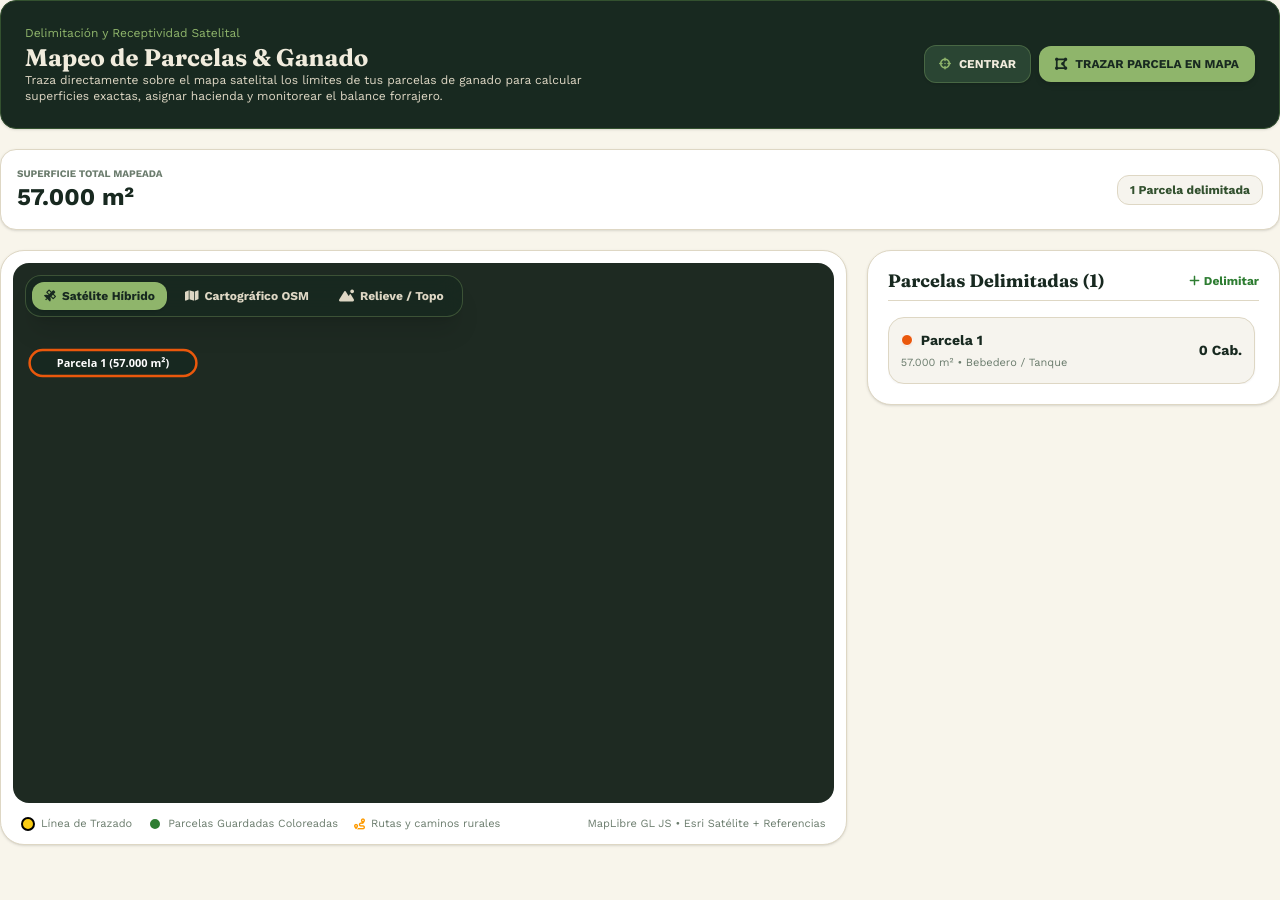
Vista de Parcelas y Potreros (ParcelasView.jsx) › muestra superficie en m² por defecto, oculta Capacidad Máxima y permite cambiar métrica con el menú de 3 rayitas
Note: Seleccionar la parcela para abrir su ficha inspectora
Click the text "Parcela 1".
click(952, 340)  # box [921, 330, 983, 350]
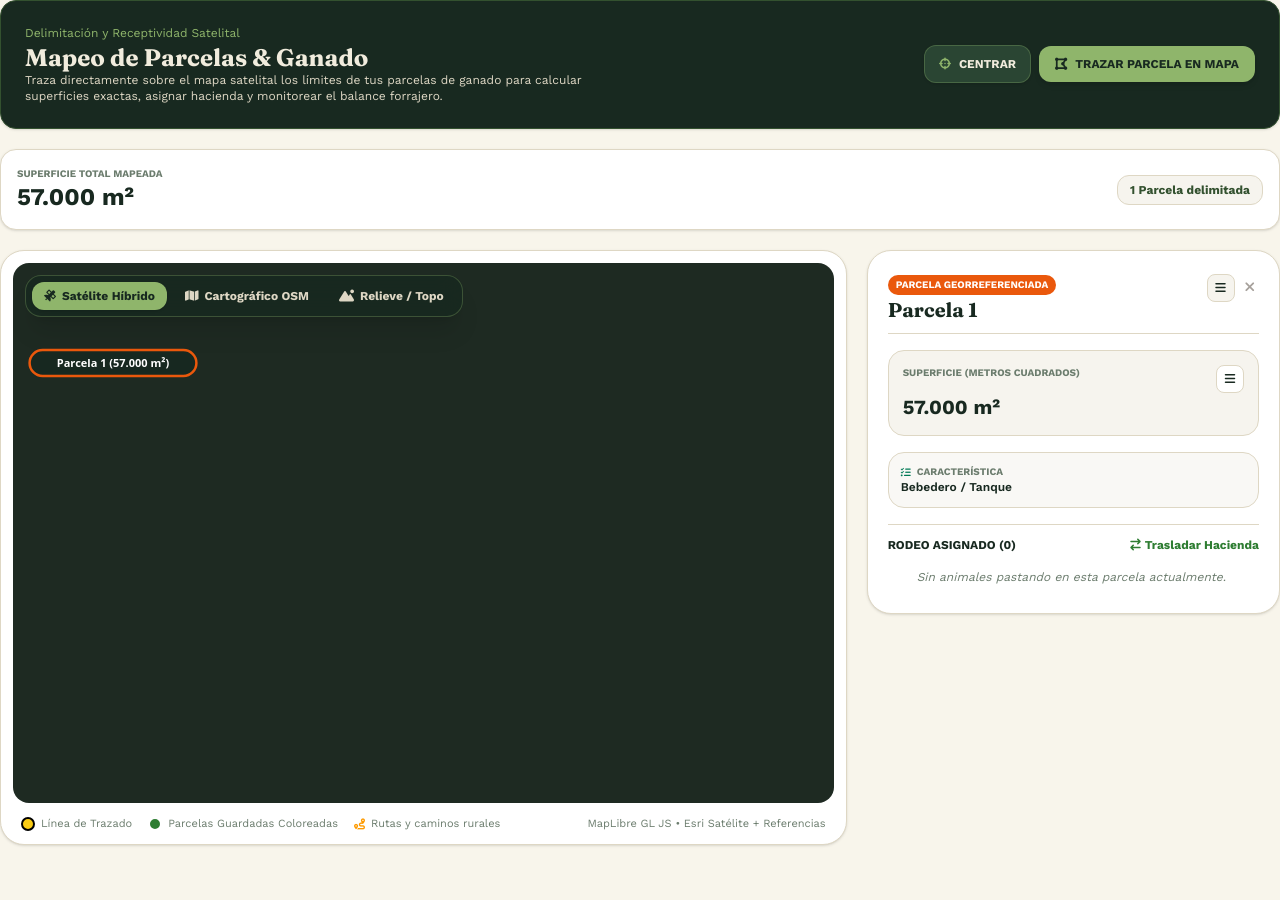
Expected: the text "Superficie (Metros cuadrados)" is shown, [903, 365, 1080, 381]
Note: Abrir el menú de 3 rayitas y cambiar a Hectáreas (Has)
Click the button named "Cambiar métrica de superficie".
click(1230, 379)  # box [1216, 365, 1244, 393]
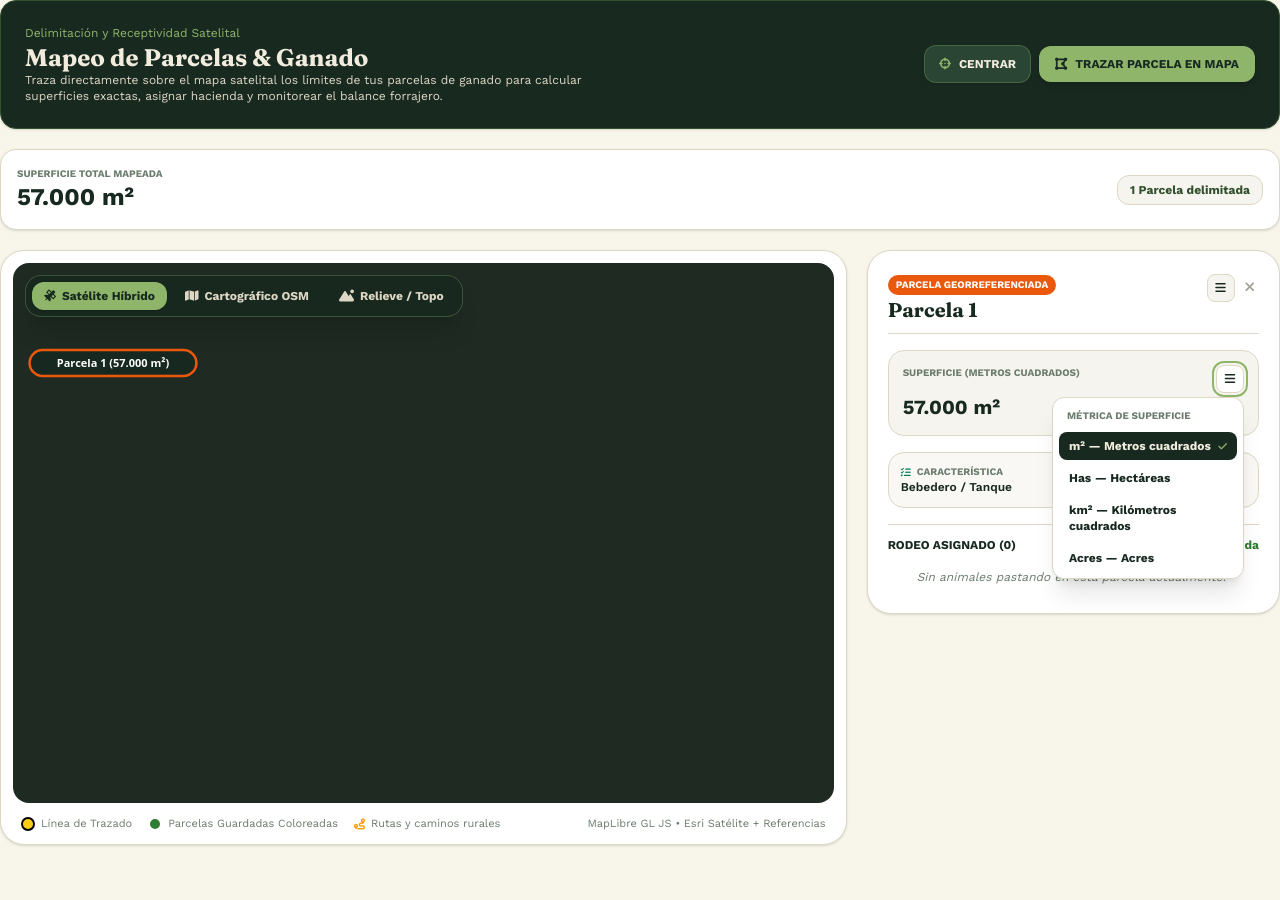
Click the button "Has — Hectáreas".
click(1148, 478)  # box [1059, 464, 1237, 492]
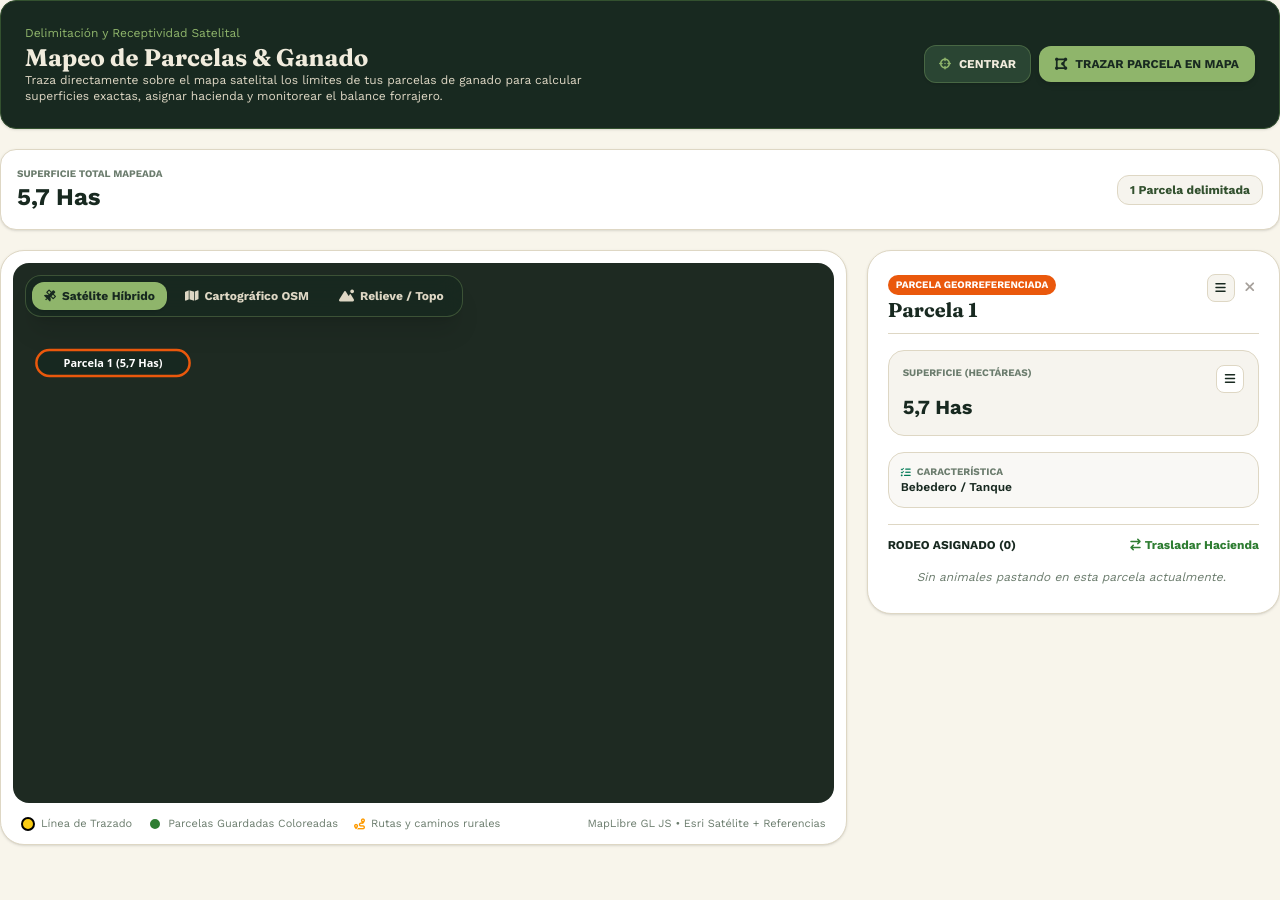
Expected: the text "Superficie (Hectáreas)" is shown, [903, 365, 1032, 381]
